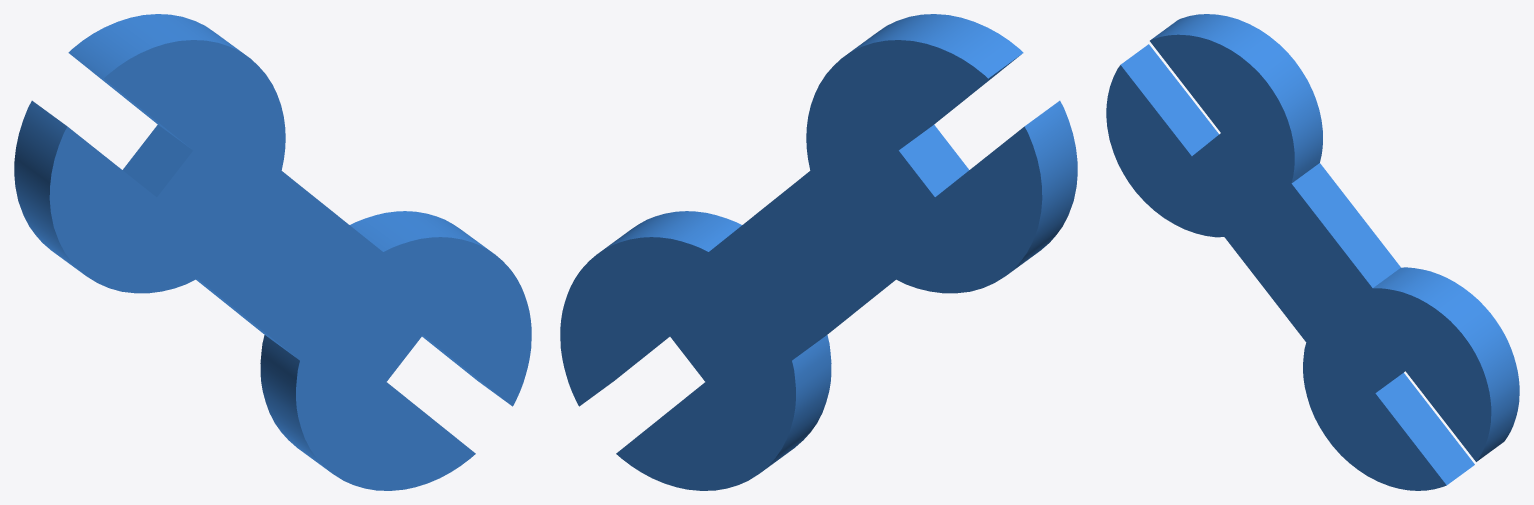
File: sy_2_pjgy.FBX
3 renders of one model, left to right at view 1: azimuth 30°, elevation 25°; view 2: azimuth 150°, elevation 25°; view 3: azimuth 330°, elevation 25°, orthographic. The views are drawn at different scales.
Parts seen in each view (by area): view 1: sy_2_patrt supply01, SY_2_part supply00; view 2: SY_2_part supply00; view 3: sy_2_patrt supply01, SY_2_part supply00.
Part boxes in pixels (left/top/right/bottom): sy_2_patrt supply01: left=49, top=40, right=531, bottom=490; SY_2_part supply00: left=14, top=14, right=509, bottom=472; SY_2_part supply00: left=560, top=14, right=1077, bottom=490; sy_2_patrt supply01: left=1106, top=34, right=1491, bottom=490; SY_2_part supply00: left=1121, top=14, right=1519, bottom=485.
Size of the model in its own units: 706 by 706 by 90.
